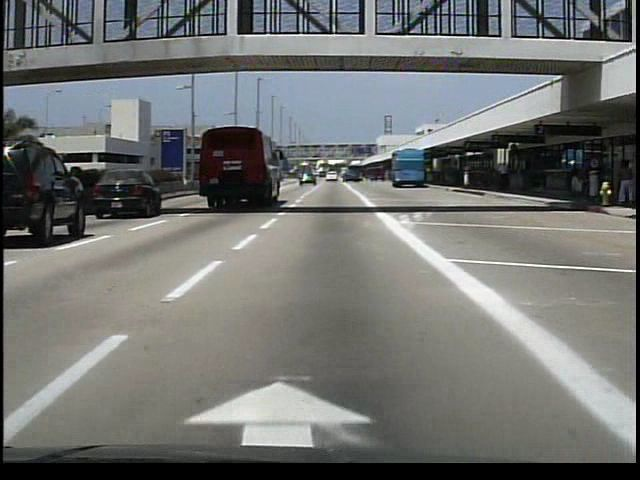person: (501, 161, 514, 192)
